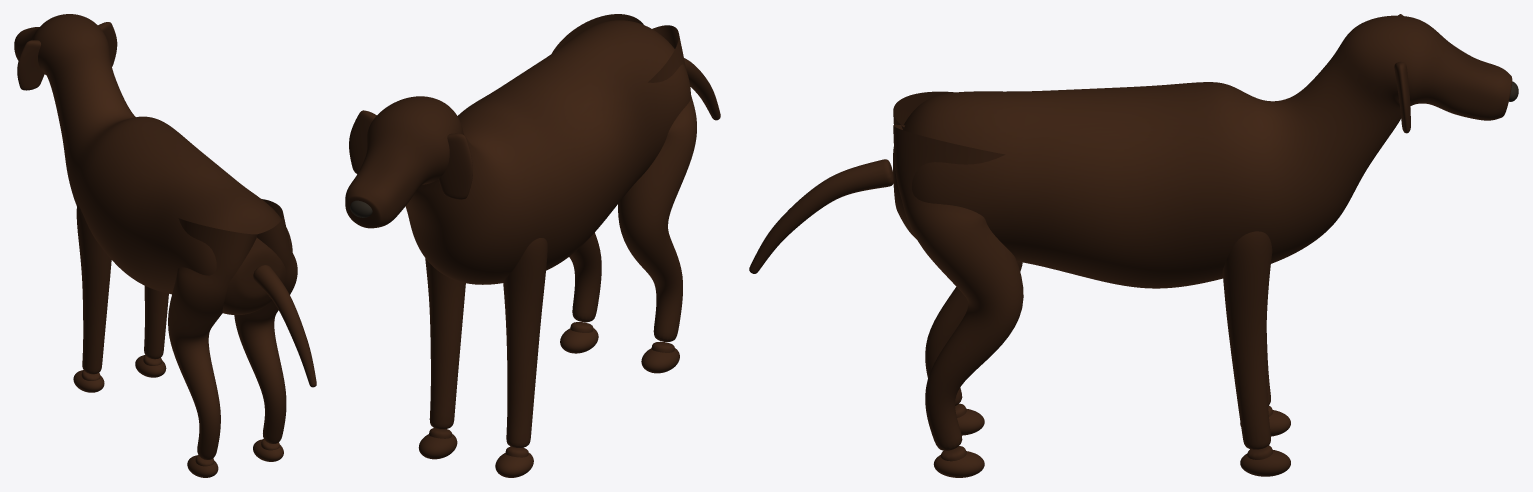
Rendered from dog_large_chocolate_standing.gltf.
The picture shows the model from 3 angles, left to right: view 1: azimuth 30°, elevation 25°; view 2: azimuth 150°, elevation 25°; view 3: azimuth 270°, elevation 25°; orthographic projection. The views are drawn at different scales.
Visible parts, largest first — view 1: dog_large; view 2: dog_large; view 3: dog_large.
Part boxes in pixels (box(x1,y1,x2,y2)): dog_large: box(14, 14, 316, 477); dog_large: box(345, 14, 720, 477); dog_large: box(749, 14, 1518, 477).
Size of the model in its own units: 0.2932 by 0.812 by 1.31.
